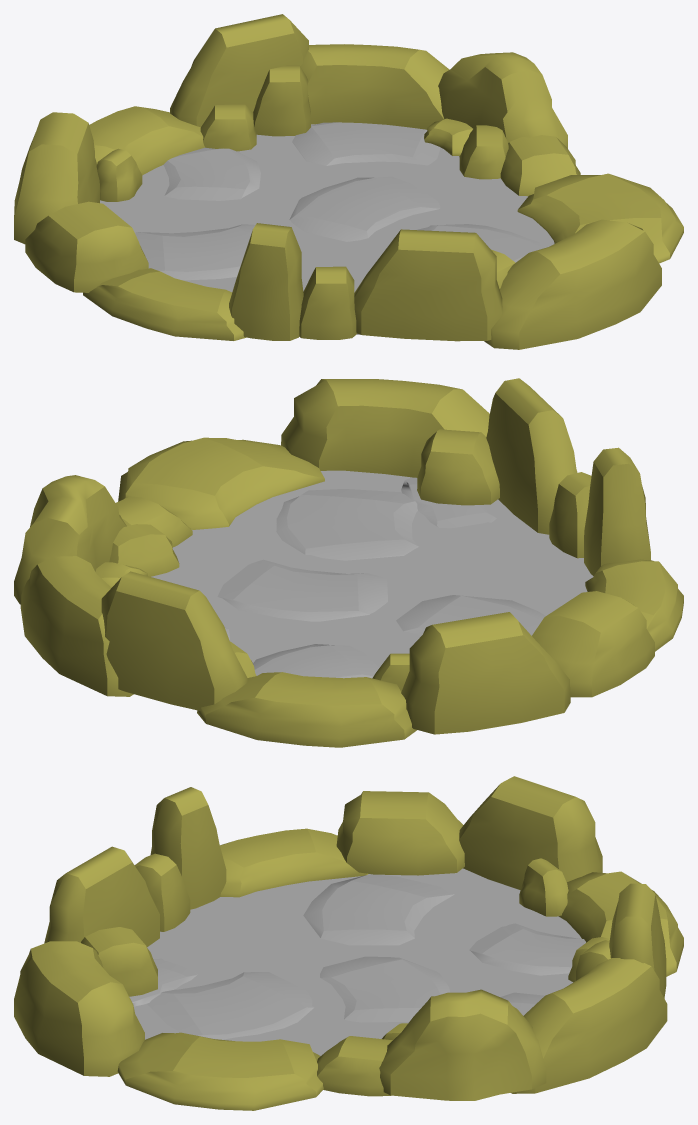
Rendered from hot spring e1.fbx.
3 views of the same model, one above another, from view 1: azimuth 30°, elevation 25°; view 2: azimuth 150°, elevation 25°; view 3: azimuth 270°, elevation 25° (orthographic). The views are drawn at different scales.
Parts seen in each view (by area): view 1: hot_springs_rocks40; view 2: hot_springs_rocks40; view 3: hot_springs_rocks40.
Boxes of the visible parts, bbox=[...] form: hot_springs_rocks40: bbox=[14, 14, 683, 349]; hot_springs_rocks40: bbox=[14, 378, 683, 747]; hot_springs_rocks40: bbox=[14, 776, 683, 1110].
Bounding box in the file's own units: 15.17 × 2.87 × 15.7.
